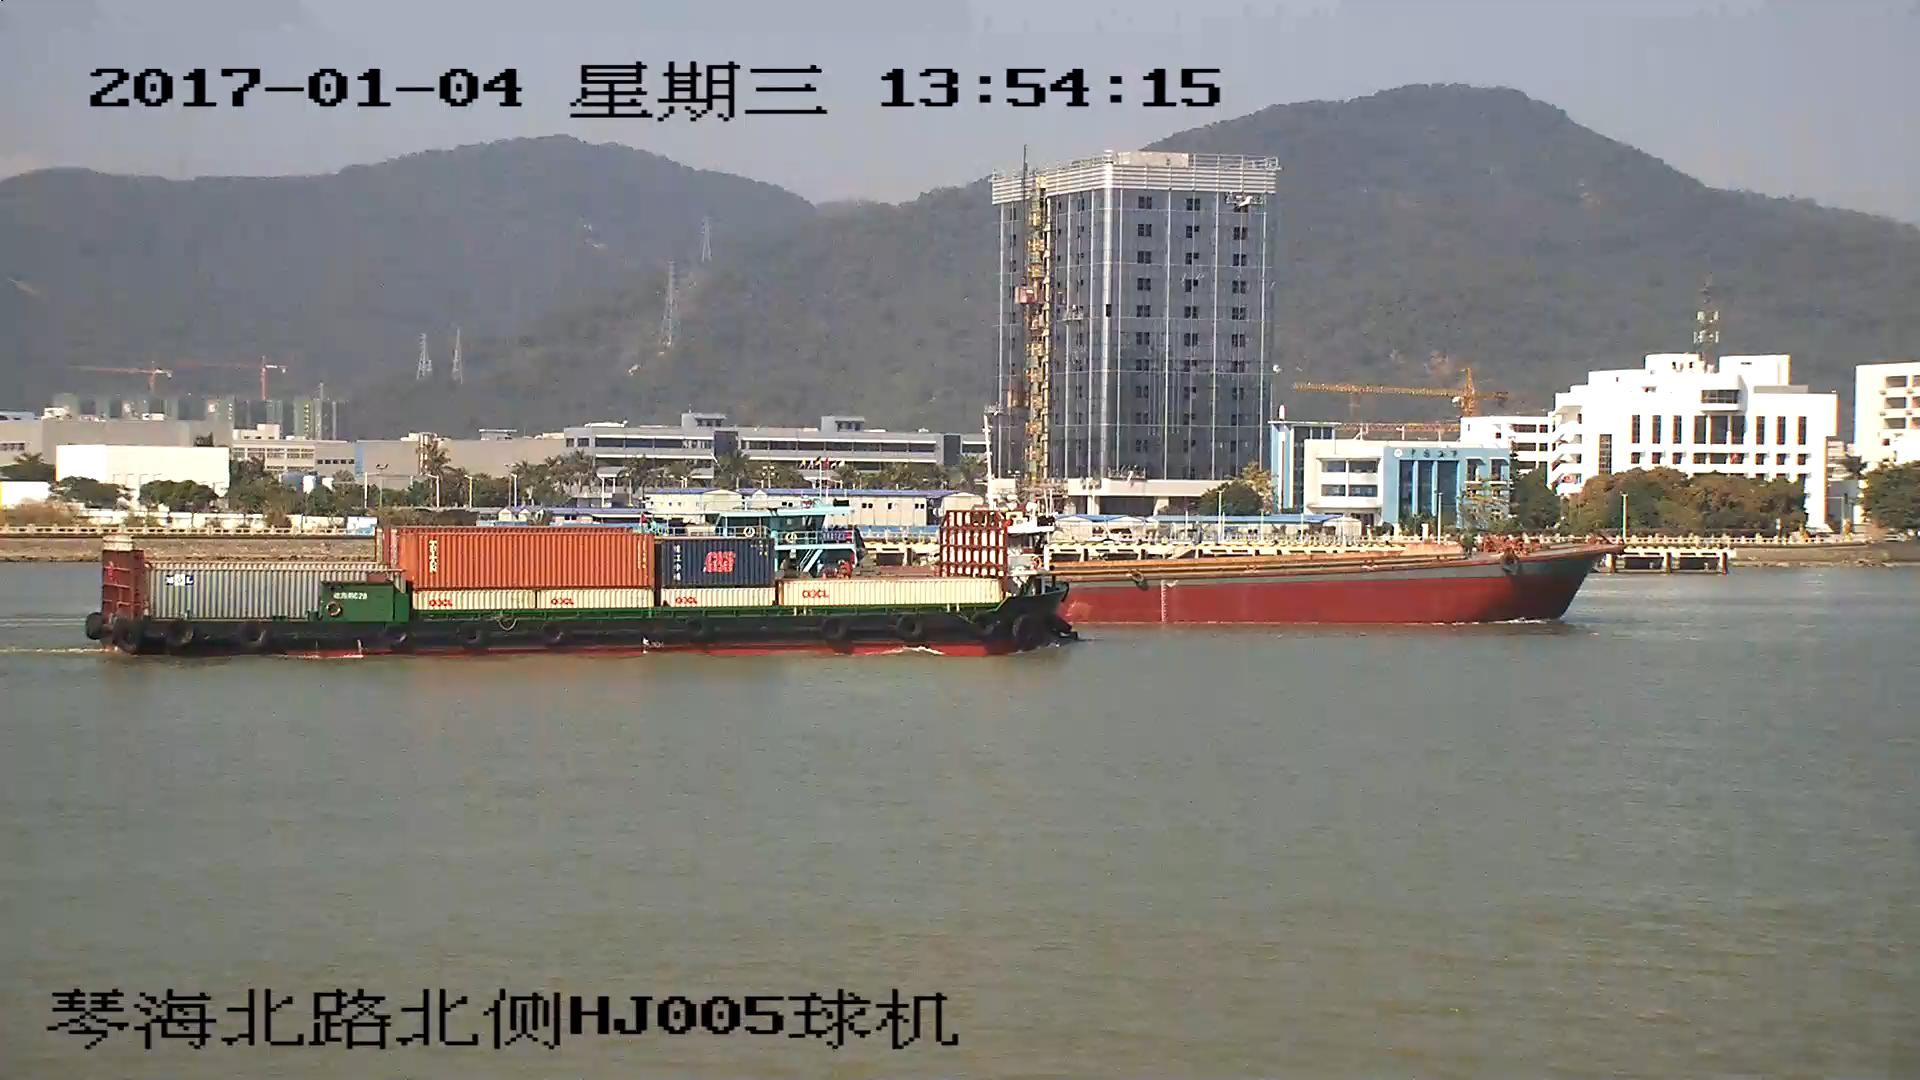bulk cargo carrier: (1077, 538, 1623, 624)
container ship: (88, 508, 1077, 657)
